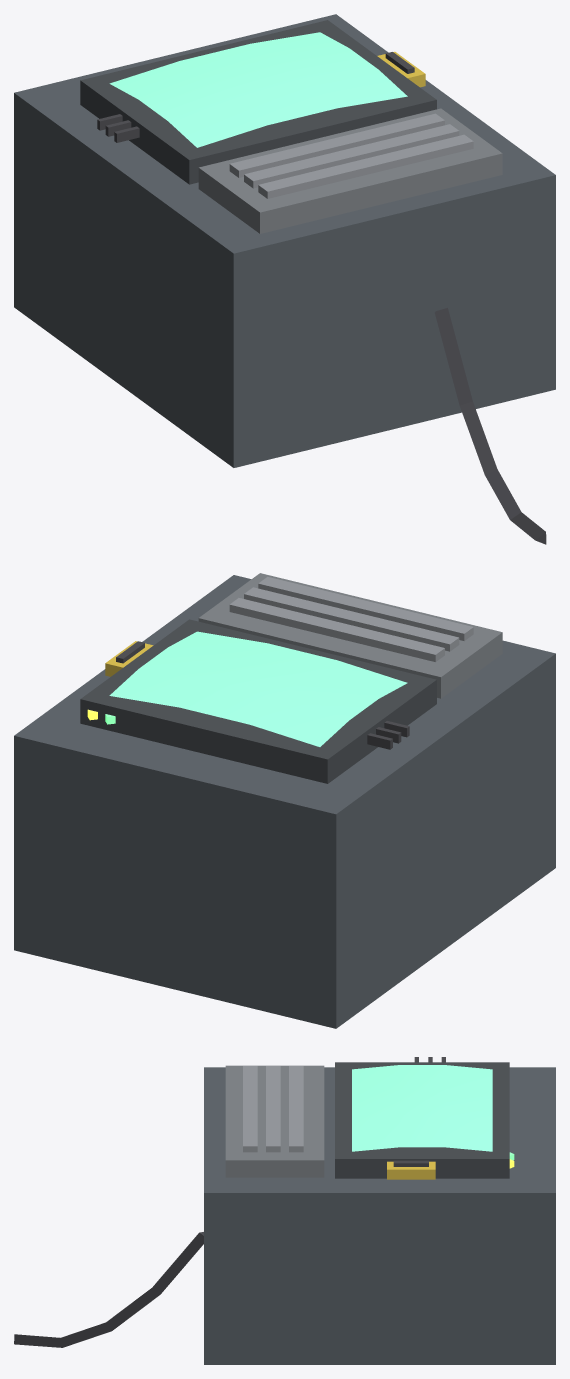
The model's file is terminal.glb.
The picture shows the model from 3 angles, top to bottom: view 1: azimuth 30°, elevation 25°; view 2: azimuth 150°, elevation 25°; view 3: azimuth 270°, elevation 25°; orthographic projection. The views are drawn at different scales.
Visible parts, largest first — view 1: terminal_wall; view 2: terminal_wall; view 3: terminal_wall.
Boxes of the visible parts, x1,y1,x2,y2 form: terminal_wall: (14,14,555,544); terminal_wall: (14,573,555,1028); terminal_wall: (14,1057,555,1364).
Bounding box in the file's own units: 0.55 × 0.4717 × 1.
